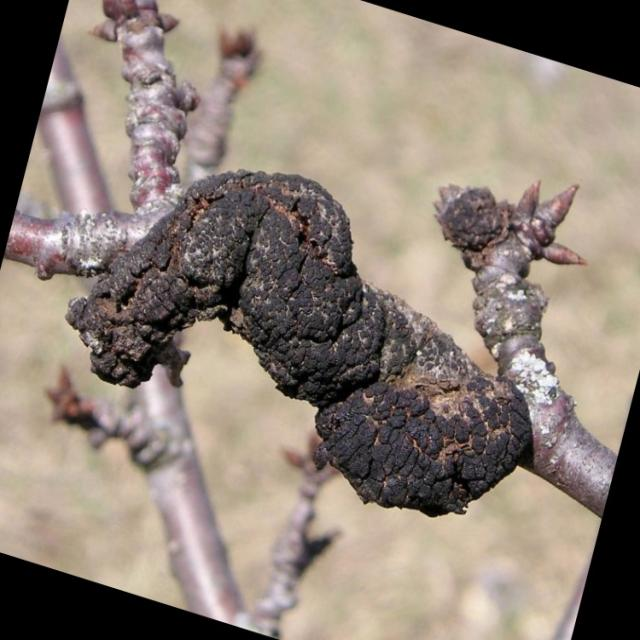Black_knot: (63, 166, 535, 517), (64, 167, 386, 406), (312, 371, 532, 517)
